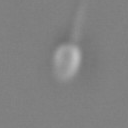normal: (68, 1, 101, 42)
